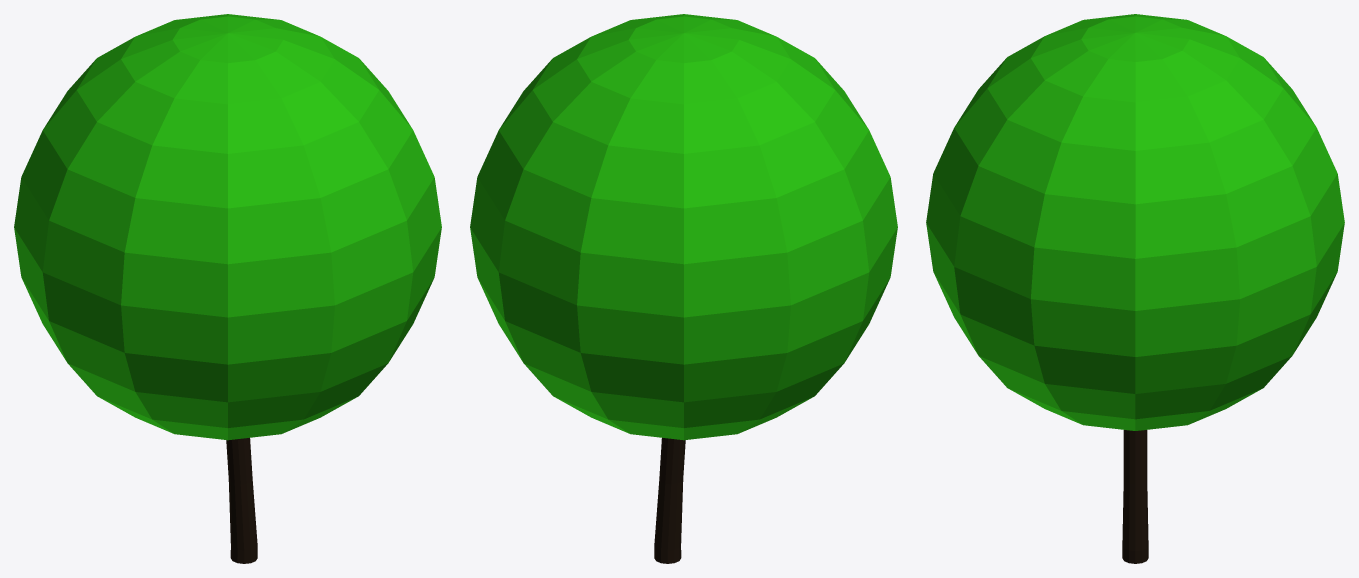
File: Tree4.fbx
The picture shows the model from 3 angles, left to right: view 1: azimuth 30°, elevation 25°; view 2: azimuth 150°, elevation 25°; view 3: azimuth 270°, elevation 25°; orthographic projection. The views are drawn at different scales.
Parts seen in each view (by area): view 1: Sphere; view 2: Sphere; view 3: Sphere.
Boxes of the visible parts, x1,y1,x2,y2 form: Sphere: (14, 14, 441, 563); Sphere: (470, 14, 897, 563); Sphere: (926, 14, 1344, 563).
Bounding box in the file's own units: 1089 × 1487 × 1089.
